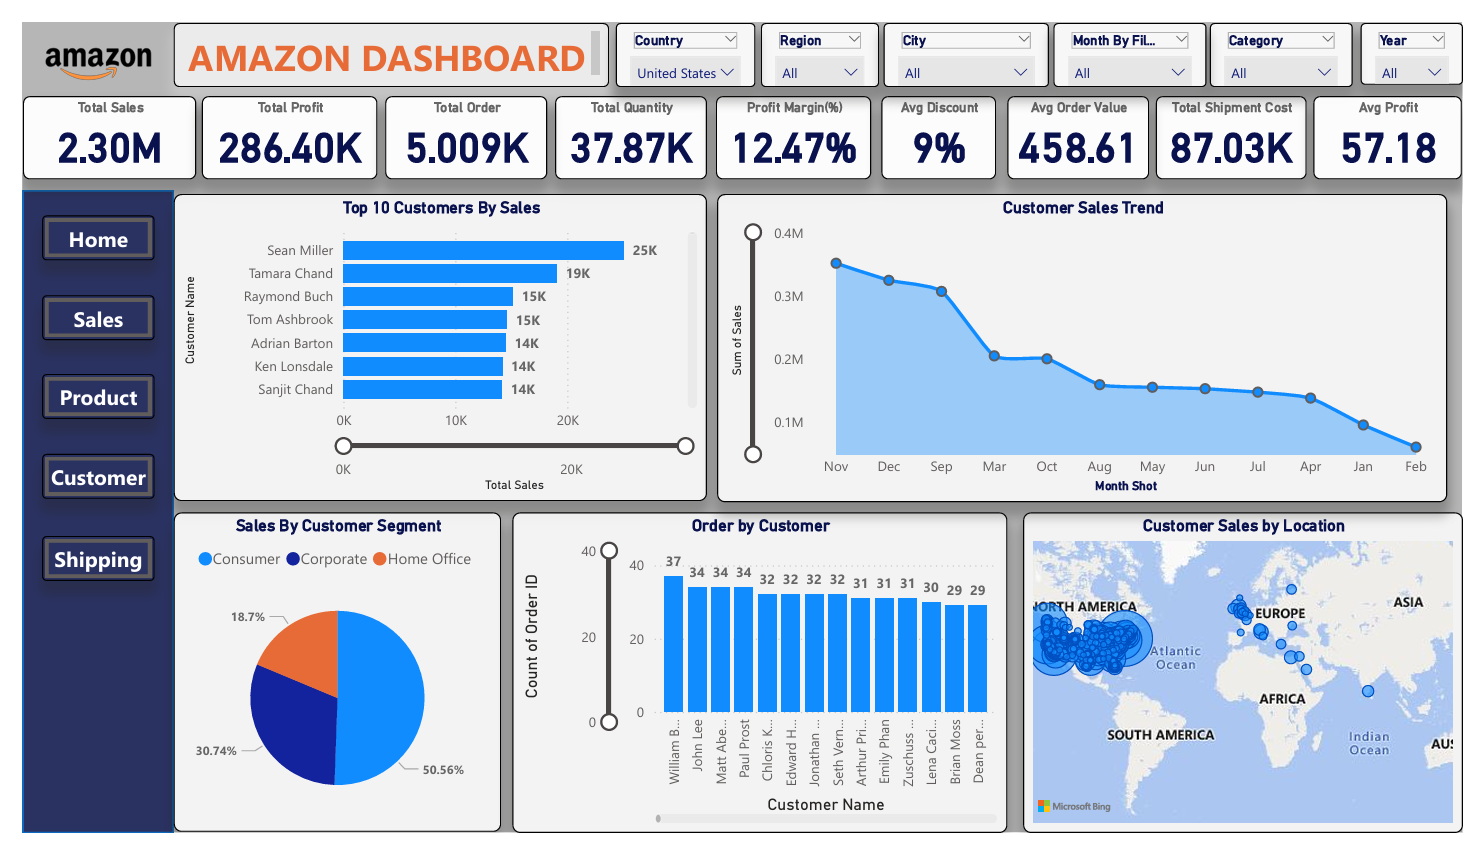

What the dashboard file says about the page in this screenshot:
{"tool":"powerbi","page":{"name":"Customer overview","canvas":[1280,720],"ordinal":4},"visuals":[{"type":"shape","box":[0,149.5,134,570.1],"z":0},{"type":"textbox","box":[134,0,386.6,56.7],"z":1000},{"type":"card","title":"Total Sales","fields":{"Values":["All Mesure.Total Sales"]},"box":[0,64.9,153.6,74.2],"z":2000},{"type":"card","title":"Total Profit","fields":{"Values":["All Mesure.Total Profit"]},"box":[158.8,64.9,156.7,74.2],"z":3000},{"type":"card","title":"Total Quantity","fields":{"Values":["All Mesure.Total Quantity"]},"box":[473.2,64.9,135.1,74.2],"z":4000},{"type":"card","title":"Total Order","fields":{"Values":["All Mesure.Total Ordes"]},"box":[321.6,64.9,144.3,74.2],"z":5000},{"type":"card","title":"Profit Margin(%)","fields":{"Values":["All Mesure.Profit Margin %"]},"box":[616.5,64.9,137.1,74.2],"z":6000},{"type":"card","title":"Avg Discount","fields":{"Values":["All Mesure.Avg Discount"]},"box":[762.9,64.9,102.1,74.2],"z":7000},{"type":"card","title":"Total Shipment Cost","fields":{"Values":["All Mesure.Total Shipment Cost"]},"box":[1007.2,64.9,134,74.2],"z":8000},{"type":"card","title":"Avg Order Value","fields":{"Values":["All Mesure.Avg Order value"]},"box":[875.3,64.9,125.8,74.2],"z":9000},{"type":"slicer","fields":{"Values":["Amazon Sales.Region"]},"box":[656,0,105,57],"z":10000},{"type":"slicer","fields":{"Values":["Amazon Sales.Year"]},"box":[1189,0,91,55],"z":11000},{"type":"slicer","fields":{"Values":["Amazon Sales.Category"]},"box":[1055,0,127,57],"z":12000},{"type":"slicer","fields":{"Values":["Amazon Sales.City"]},"box":[765,0,147,57],"z":13000},{"type":"slicer","fields":{"Values":["Amazon Sales.Country"]},"box":[527,0,124,57],"z":14000},{"type":"slicer","fields":{"Values":["Amazon Sales.Month Name"]},"box":[916,0,136,57],"z":15000},{"type":"card","title":"Avg Profit","fields":{"Values":["All Mesure.Avg Profit"]},"box":[1147.4,64.9,132,74.2],"z":16000},{"type":"clusteredBarChart","title":"Top 10 Customers By Sales","fields":{"Y":["All Mesure.Total Sales"],"Category":["Amazon Sales.Customer Name"]},"box":[134.5,152.3,473.4,273.1],"z":17000},{"type":"pieChart","title":"Sales By Customer Segment","fields":{"Category":["Amazon Sales.Segment"],"Y":["All Mesure.Total Sales"]},"box":[134.5,435,290.9,284],"z":18000},{"type":"clusteredColumnChart","title":"Order by Customer","fields":{"Category":["Amazon Sales.Customer Name"],"Y":["CountNonNull(Amazon Sales.Order ID)"]},"box":[435,435,440.5,285.4],"z":19000},{"type":"map","title":"Customer Sales by Location","fields":{"Category":["Amazon Sales.City"],"Size":["Sum(Amazon Sales.Sales)"]},"box":[889.2,435,391.1,285.4],"z":20000},{"type":"lineChart","title":"Customer Sales Trend","fields":{"Category":["Amazon Sales.Month Shot"],"Y":["Sum(Amazon Sales.Sales)"]},"box":[616.7,152.2,648.9,273.3],"z":21000},{"type":"actionButton","box":[16.7,242.2,100,40],"z":22000},{"type":"actionButton","box":[16.7,171.1,100,40],"z":23000},{"type":"actionButton","box":[16.7,312.2,100,40],"z":24000},{"type":"actionButton","box":[16.7,383.3,100,40],"z":25000},{"type":"actionButton","box":[16.7,455.6,100,40],"z":26000},{"type":"image","box":[0,0,134.4,65.6],"z":27000}]}

Visuals, with their boxes in screenshot pixels (x1, y1, x2, y2), scaled from the page's 1280x720 canvas onto the 1478x849 screenshot:
shape: <region>0, 176, 155, 848</region>
textbox: <region>155, 0, 601, 67</region>
"Total Sales" card: <region>0, 77, 177, 164</region>
"Total Profit" card: <region>183, 77, 364, 164</region>
"Total Quantity" card: <region>546, 77, 702, 164</region>
"Total Order" card: <region>371, 77, 538, 164</region>
"Profit Margin(%)" card: <region>712, 77, 870, 164</region>
"Avg Discount" card: <region>881, 77, 999, 164</region>
"Total Shipment Cost" card: <region>1163, 77, 1318, 164</region>
"Avg Order Value" card: <region>1011, 77, 1156, 164</region>
slicer - Amazon Sales.Region: <region>757, 0, 879, 67</region>
slicer - Amazon Sales.Year: <region>1373, 0, 1477, 65</region>
slicer - Amazon Sales.Category: <region>1218, 0, 1365, 67</region>
slicer - Amazon Sales.City: <region>883, 0, 1053, 67</region>
slicer - Amazon Sales.Country: <region>609, 0, 752, 67</region>
slicer - Amazon Sales.Month Name: <region>1058, 0, 1215, 67</region>
"Avg Profit" card: <region>1325, 77, 1477, 164</region>
"Top 10 Customers By Sales" clusteredBarChart: <region>155, 180, 702, 502</region>
"Sales By Customer Segment" pieChart: <region>155, 513, 491, 848</region>
"Order by Customer" clusteredColumnChart: <region>502, 513, 1011, 848</region>
"Customer Sales by Location" map: <region>1027, 513, 1477, 848</region>
"Customer Sales Trend" lineChart: <region>712, 179, 1461, 502</region>
actionButton: <region>19, 286, 135, 333</region>
actionButton: <region>19, 202, 135, 249</region>
actionButton: <region>19, 368, 135, 415</region>
actionButton: <region>19, 452, 135, 499</region>
actionButton: <region>19, 537, 135, 584</region>
image: <region>0, 0, 155, 77</region>
